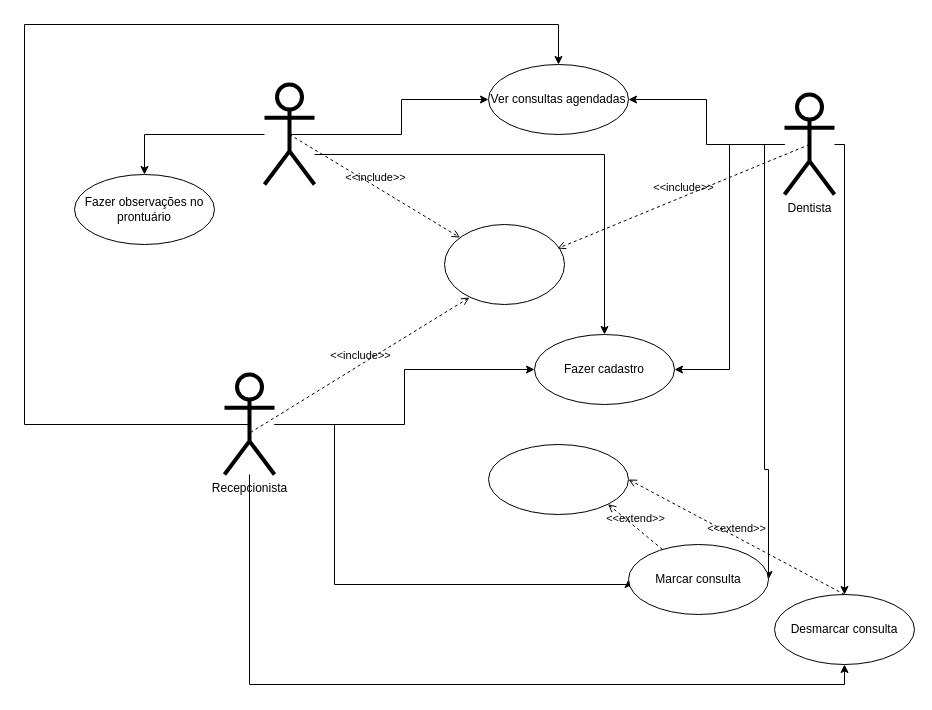
Some shapes in this 932 by 710 pixel diagram are drawn without their labels. Here are the shapes that lost their labels. From the top down, the centre of each, then its label:
At point (289, 134): "Paciente".
At point (504, 264): "Fazer login".
At point (558, 479): "Enviar email".
